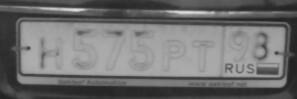license-plateSW: (16, 18, 287, 82)
